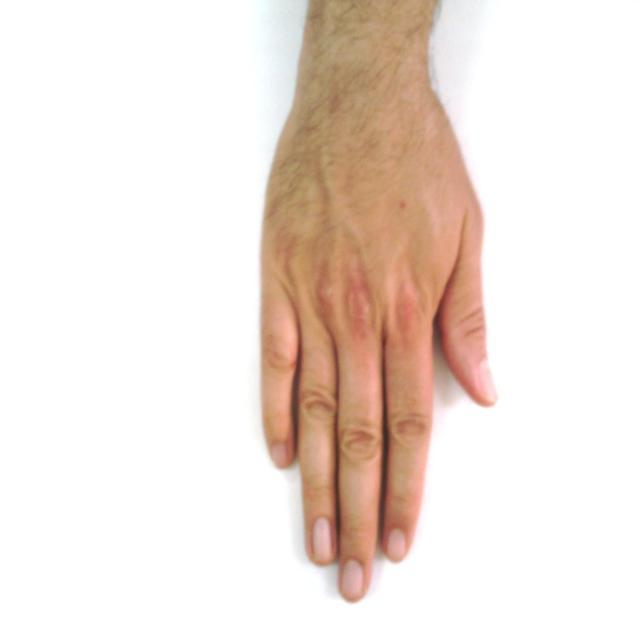Fingernail: (342, 560, 364, 600), (313, 518, 332, 563), (480, 363, 498, 401), (387, 530, 406, 561), (272, 444, 289, 467)
